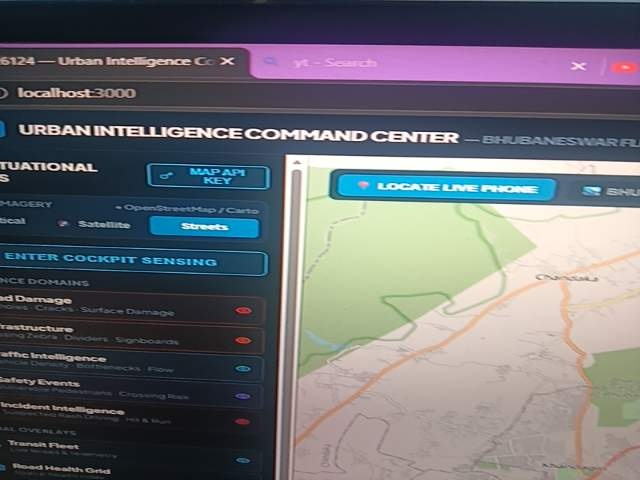pothole: (104, 403, 312, 480)
